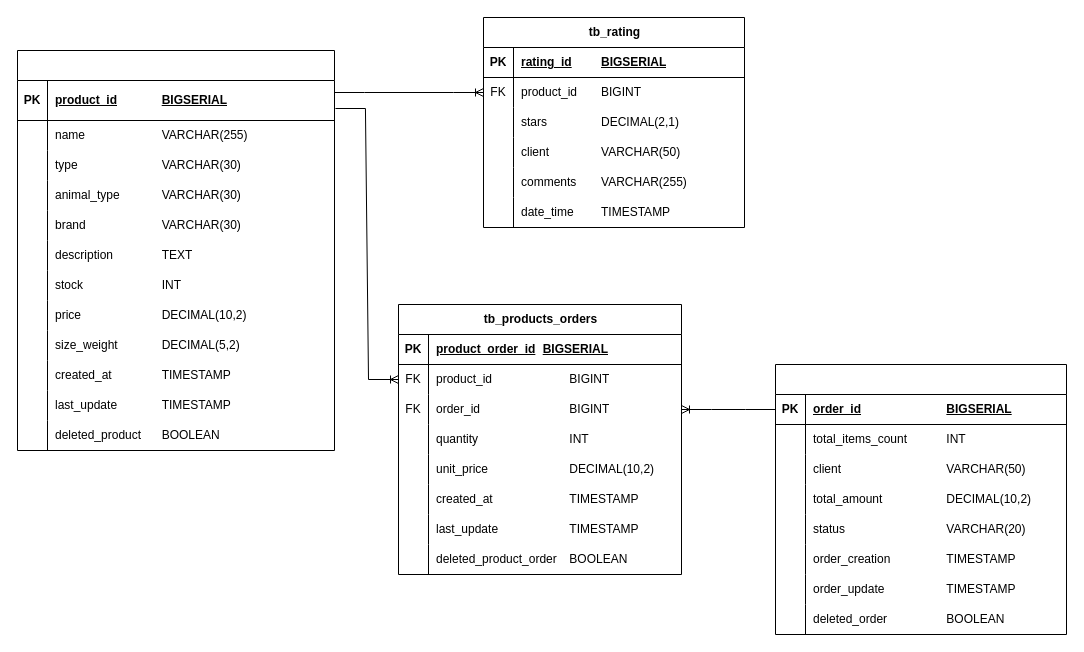
Image size: 1084x652. Some labels were removed from this diagram. Here are the shapes that lost their labels. From the top down, the box of each, then its label:
(16, 50, 334, 450): tb_products
(774, 364, 1066, 634): tb_orders
